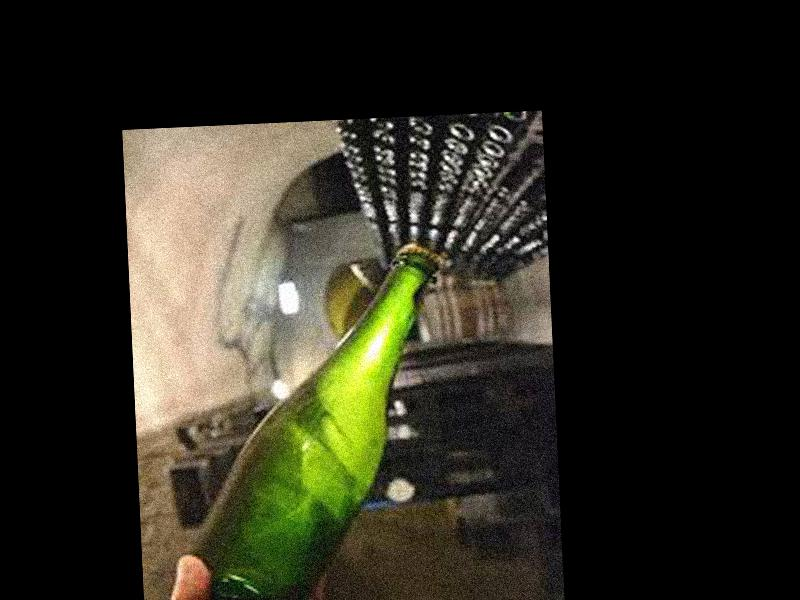Beer: (167, 241, 465, 600)
